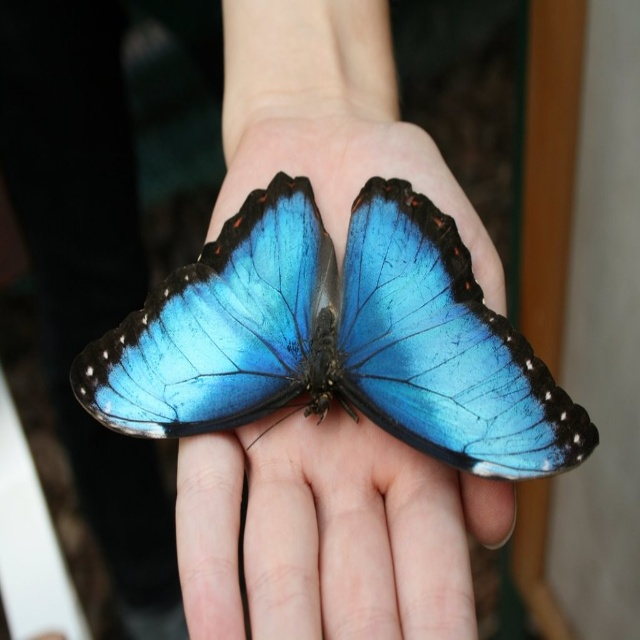Butterfly: (93, 152, 588, 489)
